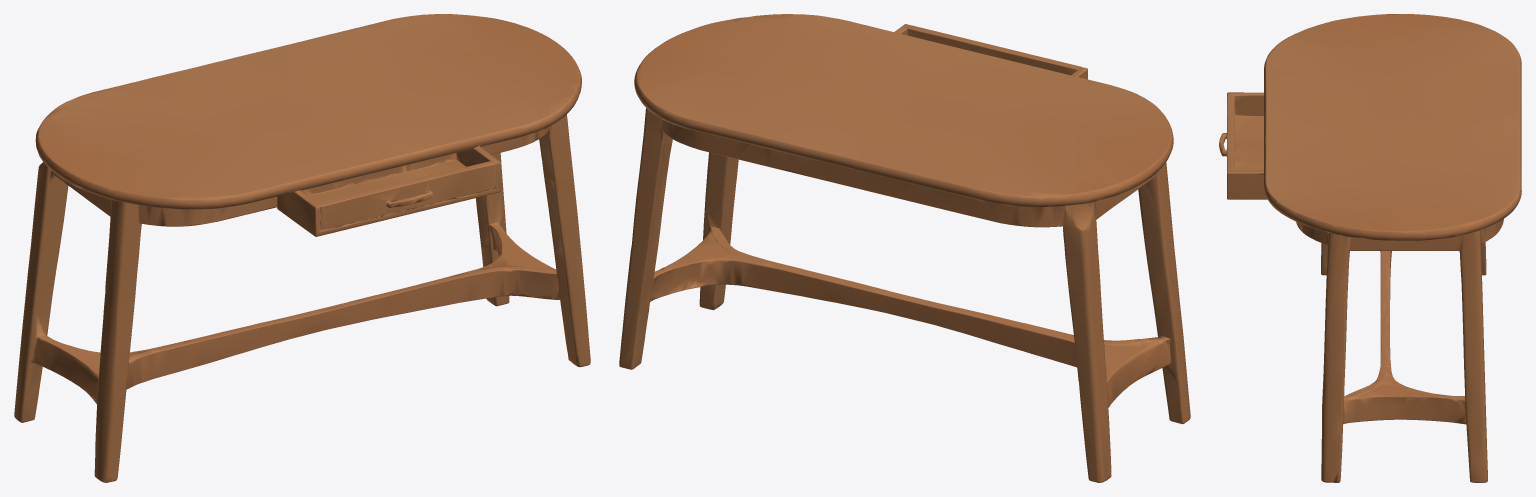
Rendered from office-desk.glb.
The picture shows the model from 3 angles, left to right: view 1: azimuth 30°, elevation 25°; view 2: azimuth 150°, elevation 25°; view 3: azimuth 270°, elevation 25°; orthographic projection. The views are drawn at different scales.
Size of the model in its own units: 1.9 by 1.04 by 1.11.
